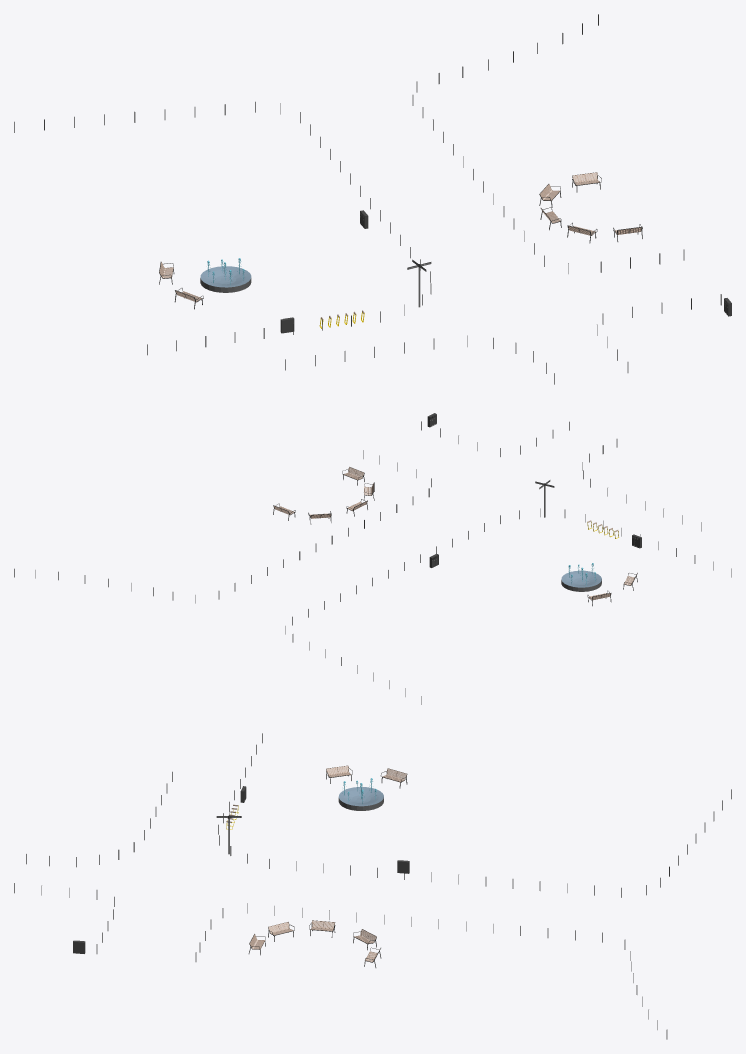
File: mobiliarNew2.glb
3 views of the same model, one above another, from view 1: azimuth 30°, elevation 25°; view 2: azimuth 150°, elevation 25°; view 3: azimuth 270°, elevation 25° (orthographic). The views are drawn at different scales.
Parts seen in each view (by area): view 1: new mobiliar remeshed with poles.001; view 2: new mobiliar remeshed with poles.001; view 3: new mobiliar remeshed with poles.001.
Part boxes in pixels (x1,y1,x2,y2): new mobiliar remeshed with poles.001: (14,14,731,384); new mobiliar remeshed with poles.001: (14,413,731,704); new mobiliar remeshed with poles.001: (14,733,731,1039).
Size of the model in its own units: 50.32 by 3.08 by 51.47.
Materials: 13 (4 with a texture image).
